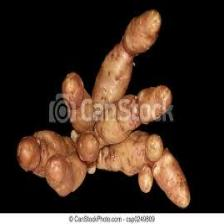Damaged potato: (18, 10, 194, 209)
